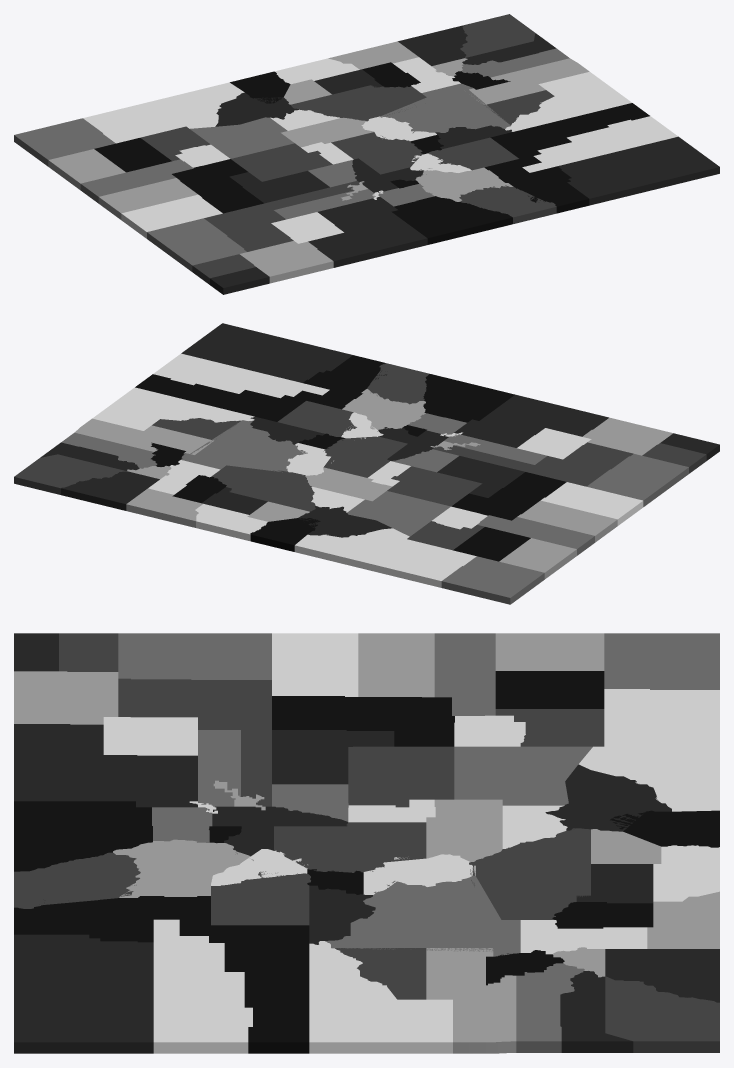
The model's file is Colorado_Counties_3D.fbx.
3 views of the same model, one above another, from view 1: azimuth 30°, elevation 25°; view 2: azimuth 150°, elevation 25°; view 3: azimuth 270°, elevation 25° (orthographic). The views are drawn at different scales.
Parts seen in each view (by area): view 1: CO_Moffat_County_3D, CO_Weld_County_3D, CO_Las_Animas_County_3D, CO_Gunnison_County_3D, CO_Rio_Blanco_County_3D, CO_Larimer_County_3D, CO_Mesa_County_3D, CO_Garfield_County_3D, CO_Yuma_County_3D, CO_Saguache_County_3D, CO_Baca_County_3D, CO_Lincoln_County_3D (+46 smaller); view 2: CO_Las_Animas_County_3D, CO_Moffat_County_3D, CO_Weld_County_3D, CO_Gunnison_County_3D, CO_Rio_Blanco_County_3D, CO_Mesa_County_3D, CO_Garfield_County_3D, CO_Baca_County_3D, CO_Yuma_County_3D, CO_Saguache_County_3D, CO_Larimer_County_3D, CO_Lincoln_County_3D (+46 smaller); view 3: CO_Moffat_County_3D, CO_Las_Animas_County_3D, CO_Weld_County_3D, CO_Mesa_County_3D, CO_Rio_Blanco_County_3D, CO_Garfield_County_3D, CO_Gunnison_County_3D, CO_Saguache_County_3D, CO_Larimer_County_3D, CO_Montrose_County_3D, CO_Yuma_County_3D, CO_Lincoln_County_3D (+49 smaller).
Boxes of the visible parts, box(x1,y1,x2,y2) form: CO_Moffat_County_3D: box(557, 136, 719, 205); CO_Weld_County_3D: box(308, 196, 427, 267); CO_Las_Animas_County_3D: box(83, 82, 244, 143); CO_Gunnison_County_3D: box(381, 83, 511, 133); CO_Rio_Blanco_County_3D: box(522, 116, 677, 172); CO_Larimer_County_3D: box(391, 196, 512, 244); CO_Mesa_County_3D: box(505, 71, 631, 131); CO_Garfield_County_3D: box(490, 103, 649, 167); CO_Yuma_County_3D: box(147, 218, 246, 271); CO_Saguache_County_3D: box(291, 85, 426, 121); CO_Baca_County_3D: box(14, 118, 115, 166); CO_Lincoln_County_3D: box(172, 159, 263, 213); CO_Las_Animas_County_3D: box(294, 528, 476, 587); CO_Moffat_County_3D: box(181, 323, 352, 382); CO_Weld_County_3D: box(454, 394, 608, 447); CO_Gunnison_County_3D: box(181, 420, 307, 472); CO_Rio_Blanco_County_3D: box(153, 353, 329, 398); CO_Mesa_County_3D: box(92, 387, 254, 430); CO_Garfield_County_3D: box(135, 374, 321, 421); CO_Baca_County_3D: box(441, 556, 544, 604); CO_Yuma_County_3D: box(587, 454, 688, 506); CO_Saguache_County_3D: box(211, 465, 315, 511); CO_Larimer_County_3D: box(423, 374, 514, 422); CO_Lincoln_County_3D: box(451, 472, 566, 520); CO_Moffat_County_3D: box(14, 934, 153, 1053); CO_Las_Animas_County_3D: box(578, 689, 719, 811); CO_Weld_County_3D: box(14, 724, 197, 807); CO_Mesa_County_3D: box(309, 941, 452, 1053); CO_Rio_Blanco_County_3D: box(153, 919, 252, 1053); CO_Garfield_County_3D: box(179, 919, 309, 1053); CO_Gunnison_County_3D: box(326, 875, 520, 956); CO_Saguache_County_3D: box(469, 828, 590, 919); CO_Larimer_County_3D: box(14, 801, 152, 871); CO_Montrose_County_3D: box(426, 948, 516, 1053); CO_Yuma_County_3D: box(118, 633, 271, 679); CO_Lincoln_County_3D: box(272, 696, 454, 746).
Bounding box in the file's own units: 761 × 10 × 555.
